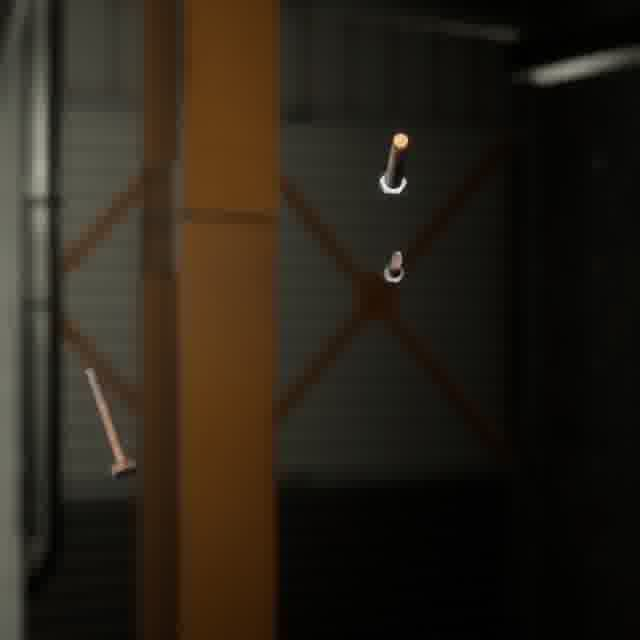bolt: (79, 363, 141, 483), (374, 129, 413, 199), (378, 246, 409, 288)
